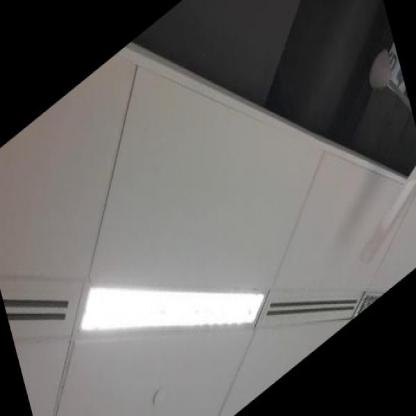light_on: (67, 154, 282, 415)
